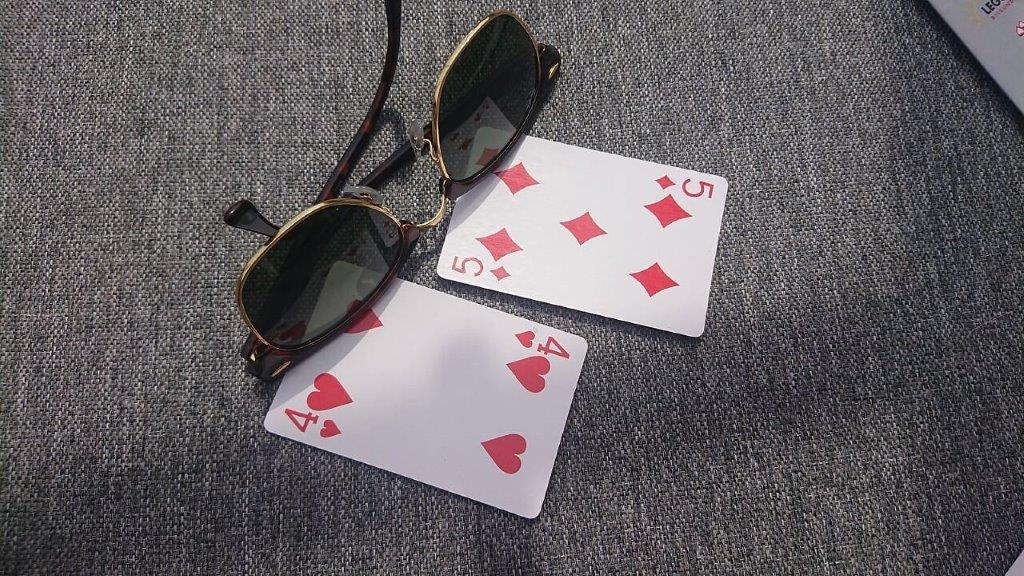4H: (283, 399, 346, 448)
5D: (444, 250, 513, 290)
